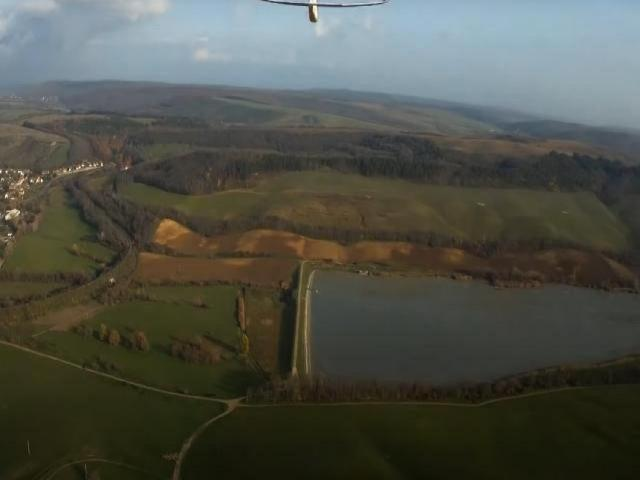iha: (234, 0, 397, 23)
